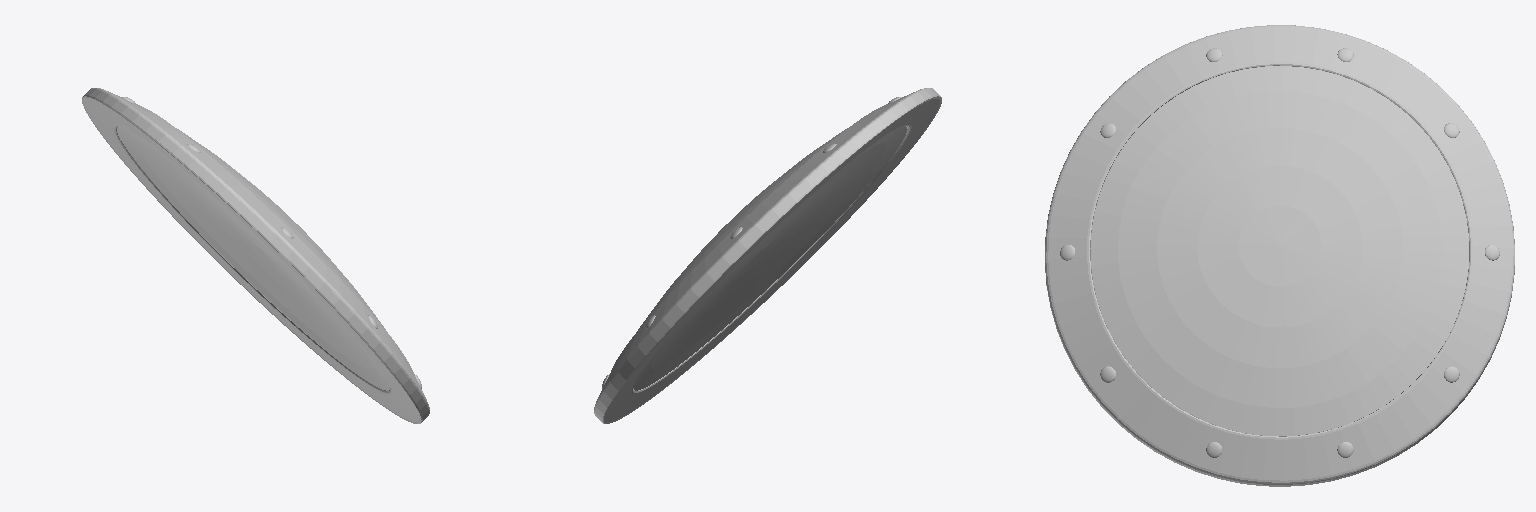
Rendered from shield.obj.
3 views of the same model, side by side, from view 1: azimuth 30°, elevation 25°; view 2: azimuth 150°, elevation 25°; view 3: azimuth 270°, elevation 25° (orthographic).
Parts seen in each view (by area): view 1: Sphere01, Object02; view 2: Sphere01, Object02; view 3: Object02, Sphere01, Capsule10.
Part boxes in pixels (bbox=[...]): Sphere01: bbox=[82, 88, 429, 423]; Object02: bbox=[117, 126, 390, 390]; Sphere01: bbox=[594, 88, 941, 423]; Object02: bbox=[633, 126, 907, 390]; Object02: bbox=[1090, 66, 1469, 436]; Sphere01: bbox=[1045, 25, 1514, 486]; Capsule10: bbox=[1060, 48, 1499, 457].
Size of the model in its own units: 2140 by 2781 by 3429.